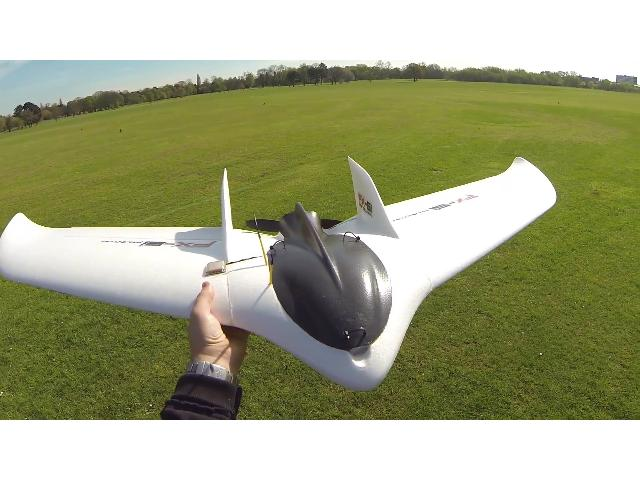Anti-Drone: (2, 150, 566, 398)
